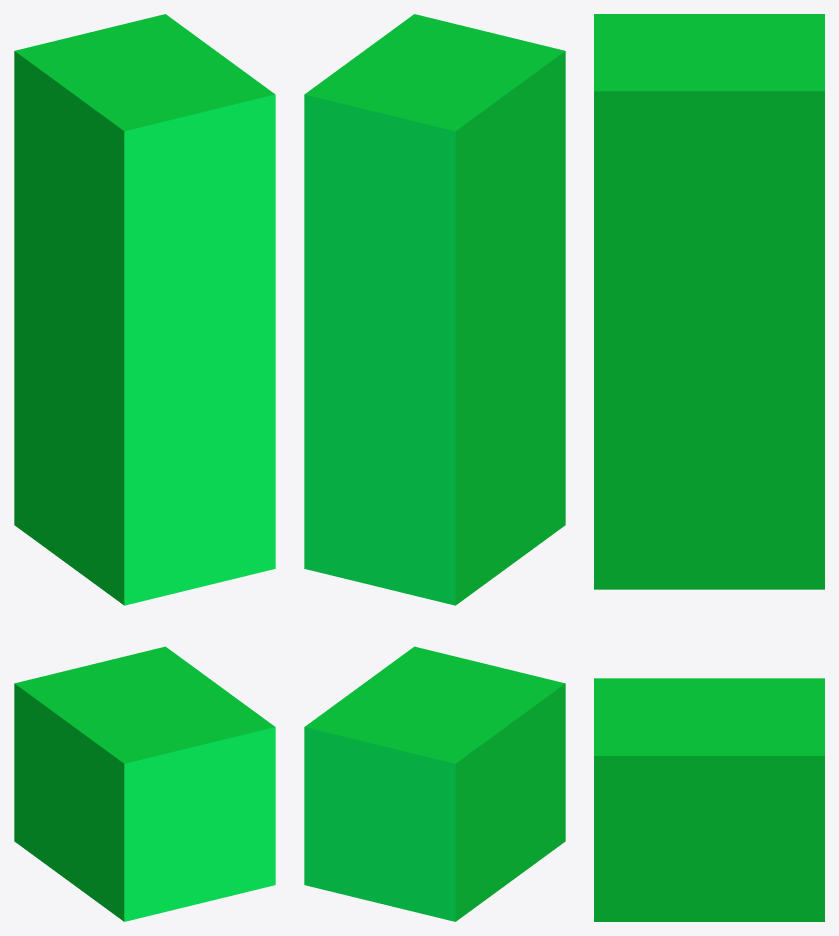
3 views of the same model, side by side, from view 1: azimuth 30°, elevation 25°; view 2: azimuth 150°, elevation 25°; view 3: azimuth 270°, elevation 25° (orthographic). The views are drawn at different scales.
Visible parts, largest first — view 1: !_DeltaBlock_Green; view 2: !_DeltaBlock_Green; view 3: !_DeltaBlock_Green.
Boxes of the visible parts, x1,y1,x2,y2 form: !_DeltaBlock_Green: [14, 14, 275, 921]; !_DeltaBlock_Green: [304, 14, 565, 921]; !_DeltaBlock_Green: [594, 14, 824, 921].
Size of what is drawn, in the model's own units: 0.0357 by 0.1786 by 0.045.
Materials: 2 (2 with a texture image).
